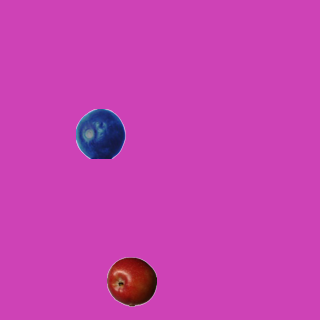Apple Braeburn: (106, 256, 156, 306)
Huckleberry: (75, 108, 125, 158)
